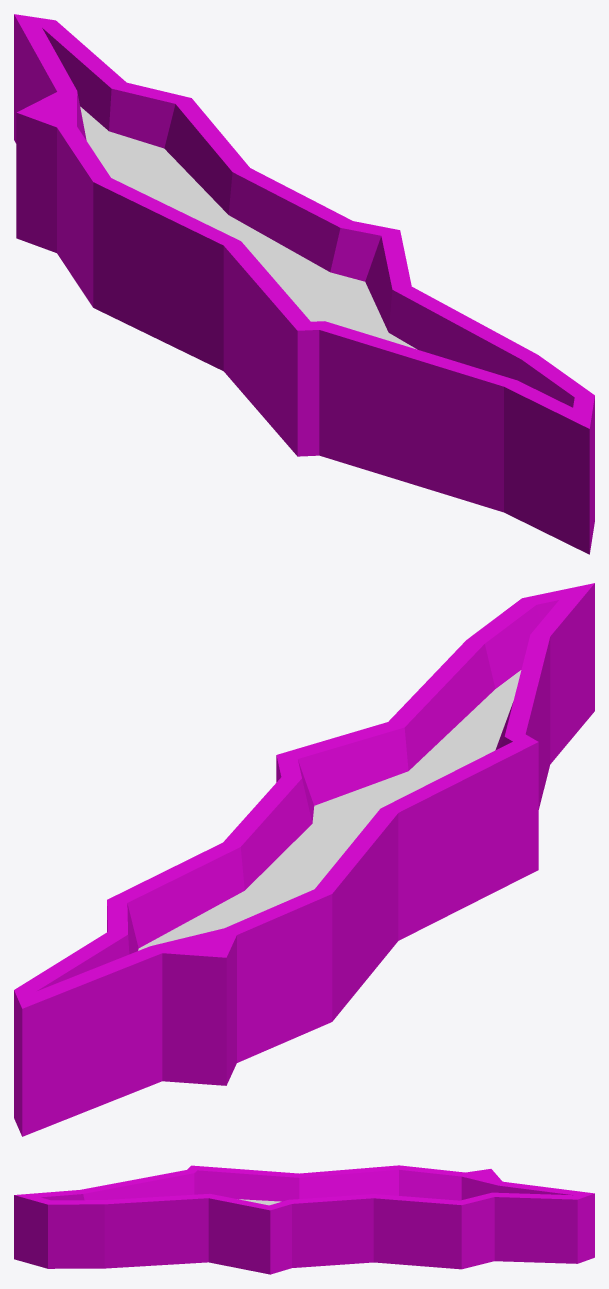
The model's file is Crevice.fbx.
3 renders of one model, top to bottom at view 1: azimuth 30°, elevation 25°; view 2: azimuth 150°, elevation 25°; view 3: azimuth 270°, elevation 25°, orthographic. The views are drawn at different scales.
Visible parts, largest first — view 1: Crevice; view 2: Crevice; view 3: Crevice.
Boxes of the visible parts, x1,y1,x2,y2 form: Crevice: (14, 14, 594, 554); Crevice: (14, 583, 594, 1136); Crevice: (14, 1165, 594, 1274).
Size of the model in its own units: 86.59 by 57.54 by 472.
